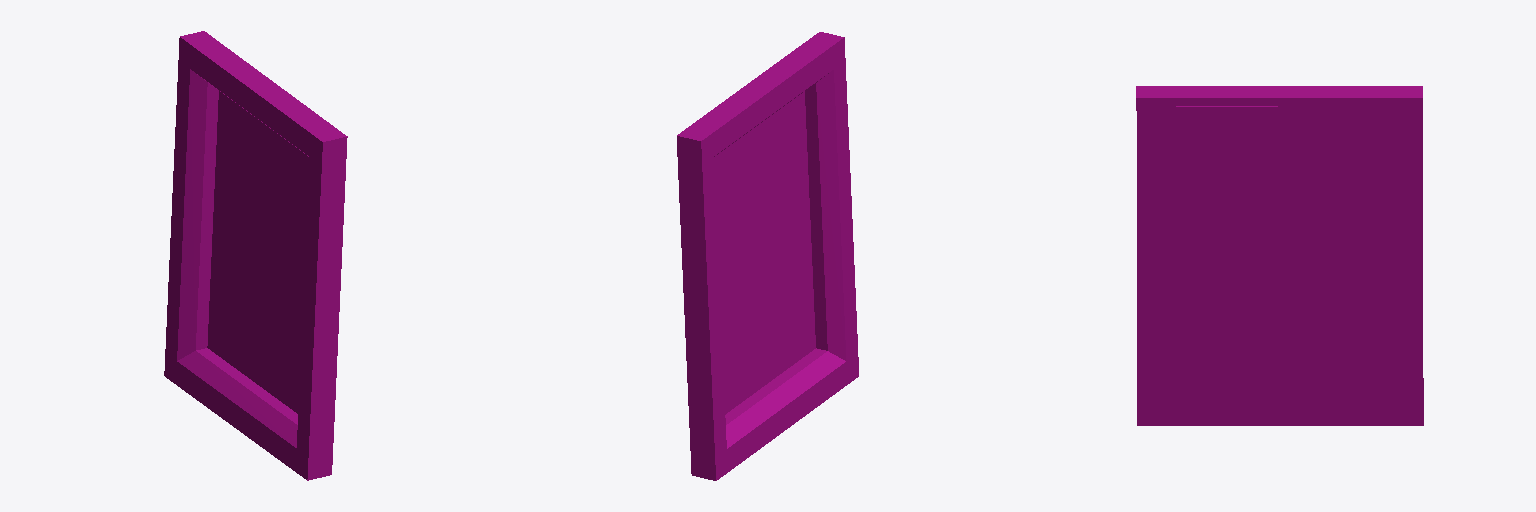
Rendered from Frame.obj.
3 renders of one model, left to right at view 1: azimuth 30°, elevation 25°; view 2: azimuth 150°, elevation 25°; view 3: azimuth 270°, elevation 25°, orthographic.
Parts seen in each view (by area): view 1: Frame, Back; view 2: Frame, Back; view 3: Back, Frame.
Part boxes in pixels (x1,y1,x2,y2): Frame: (164, 31, 347, 480); Back: (207, 91, 309, 413); Frame: (677, 32, 858, 480); Back: (714, 91, 815, 414); Back: (1144, 106, 1415, 418); Frame: (1136, 86, 1423, 425).
Size of the model in its own units: 3.19 by 25.66 by 19.85.